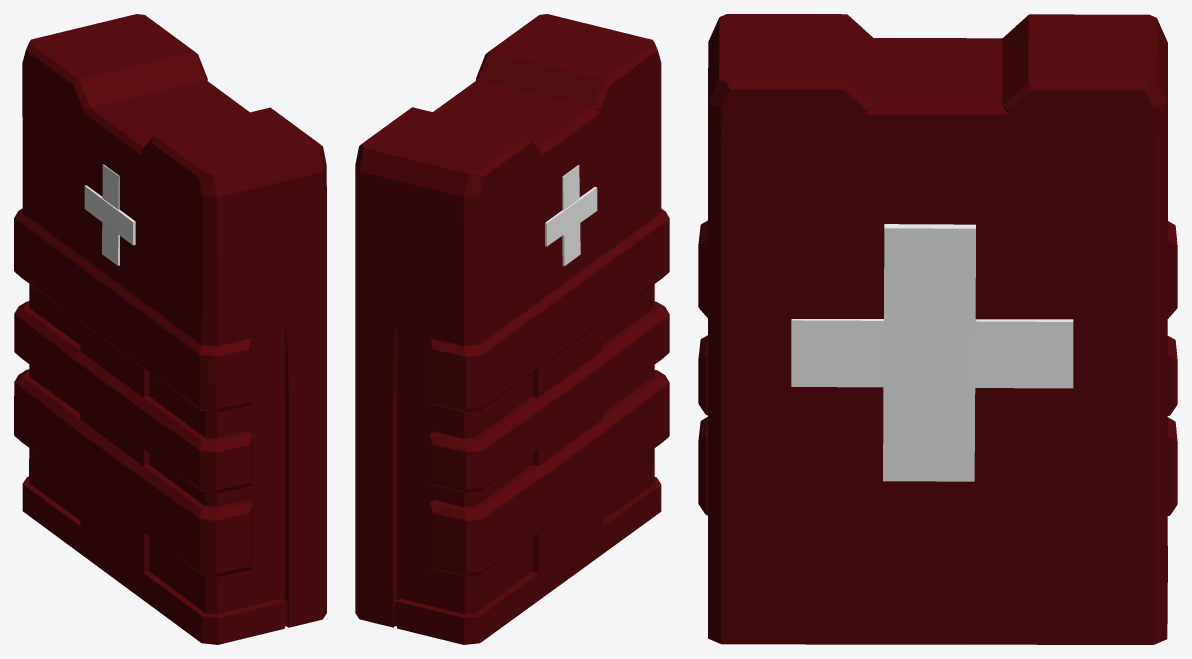
Rendered from Med_Kit.glb.
3 renders of one model, left to right at view 1: azimuth 30°, elevation 25°; view 2: azimuth 150°, elevation 25°; view 3: azimuth 270°, elevation 25°, orthographic. The views are drawn at different scales.
Visible parts, largest first — view 1: Cube.002; view 2: Cube.002; view 3: Cube.002.
Boxes of the visible parts, left/top/right/bottom form: Cube.002: left=14, top=14, right=326, bottom=644; Cube.002: left=355, top=14, right=669, bottom=644; Cube.002: left=698, top=14, right=1177, bottom=644.
Size of the model in its own units: 0.598 by 1.92 by 1.49.
